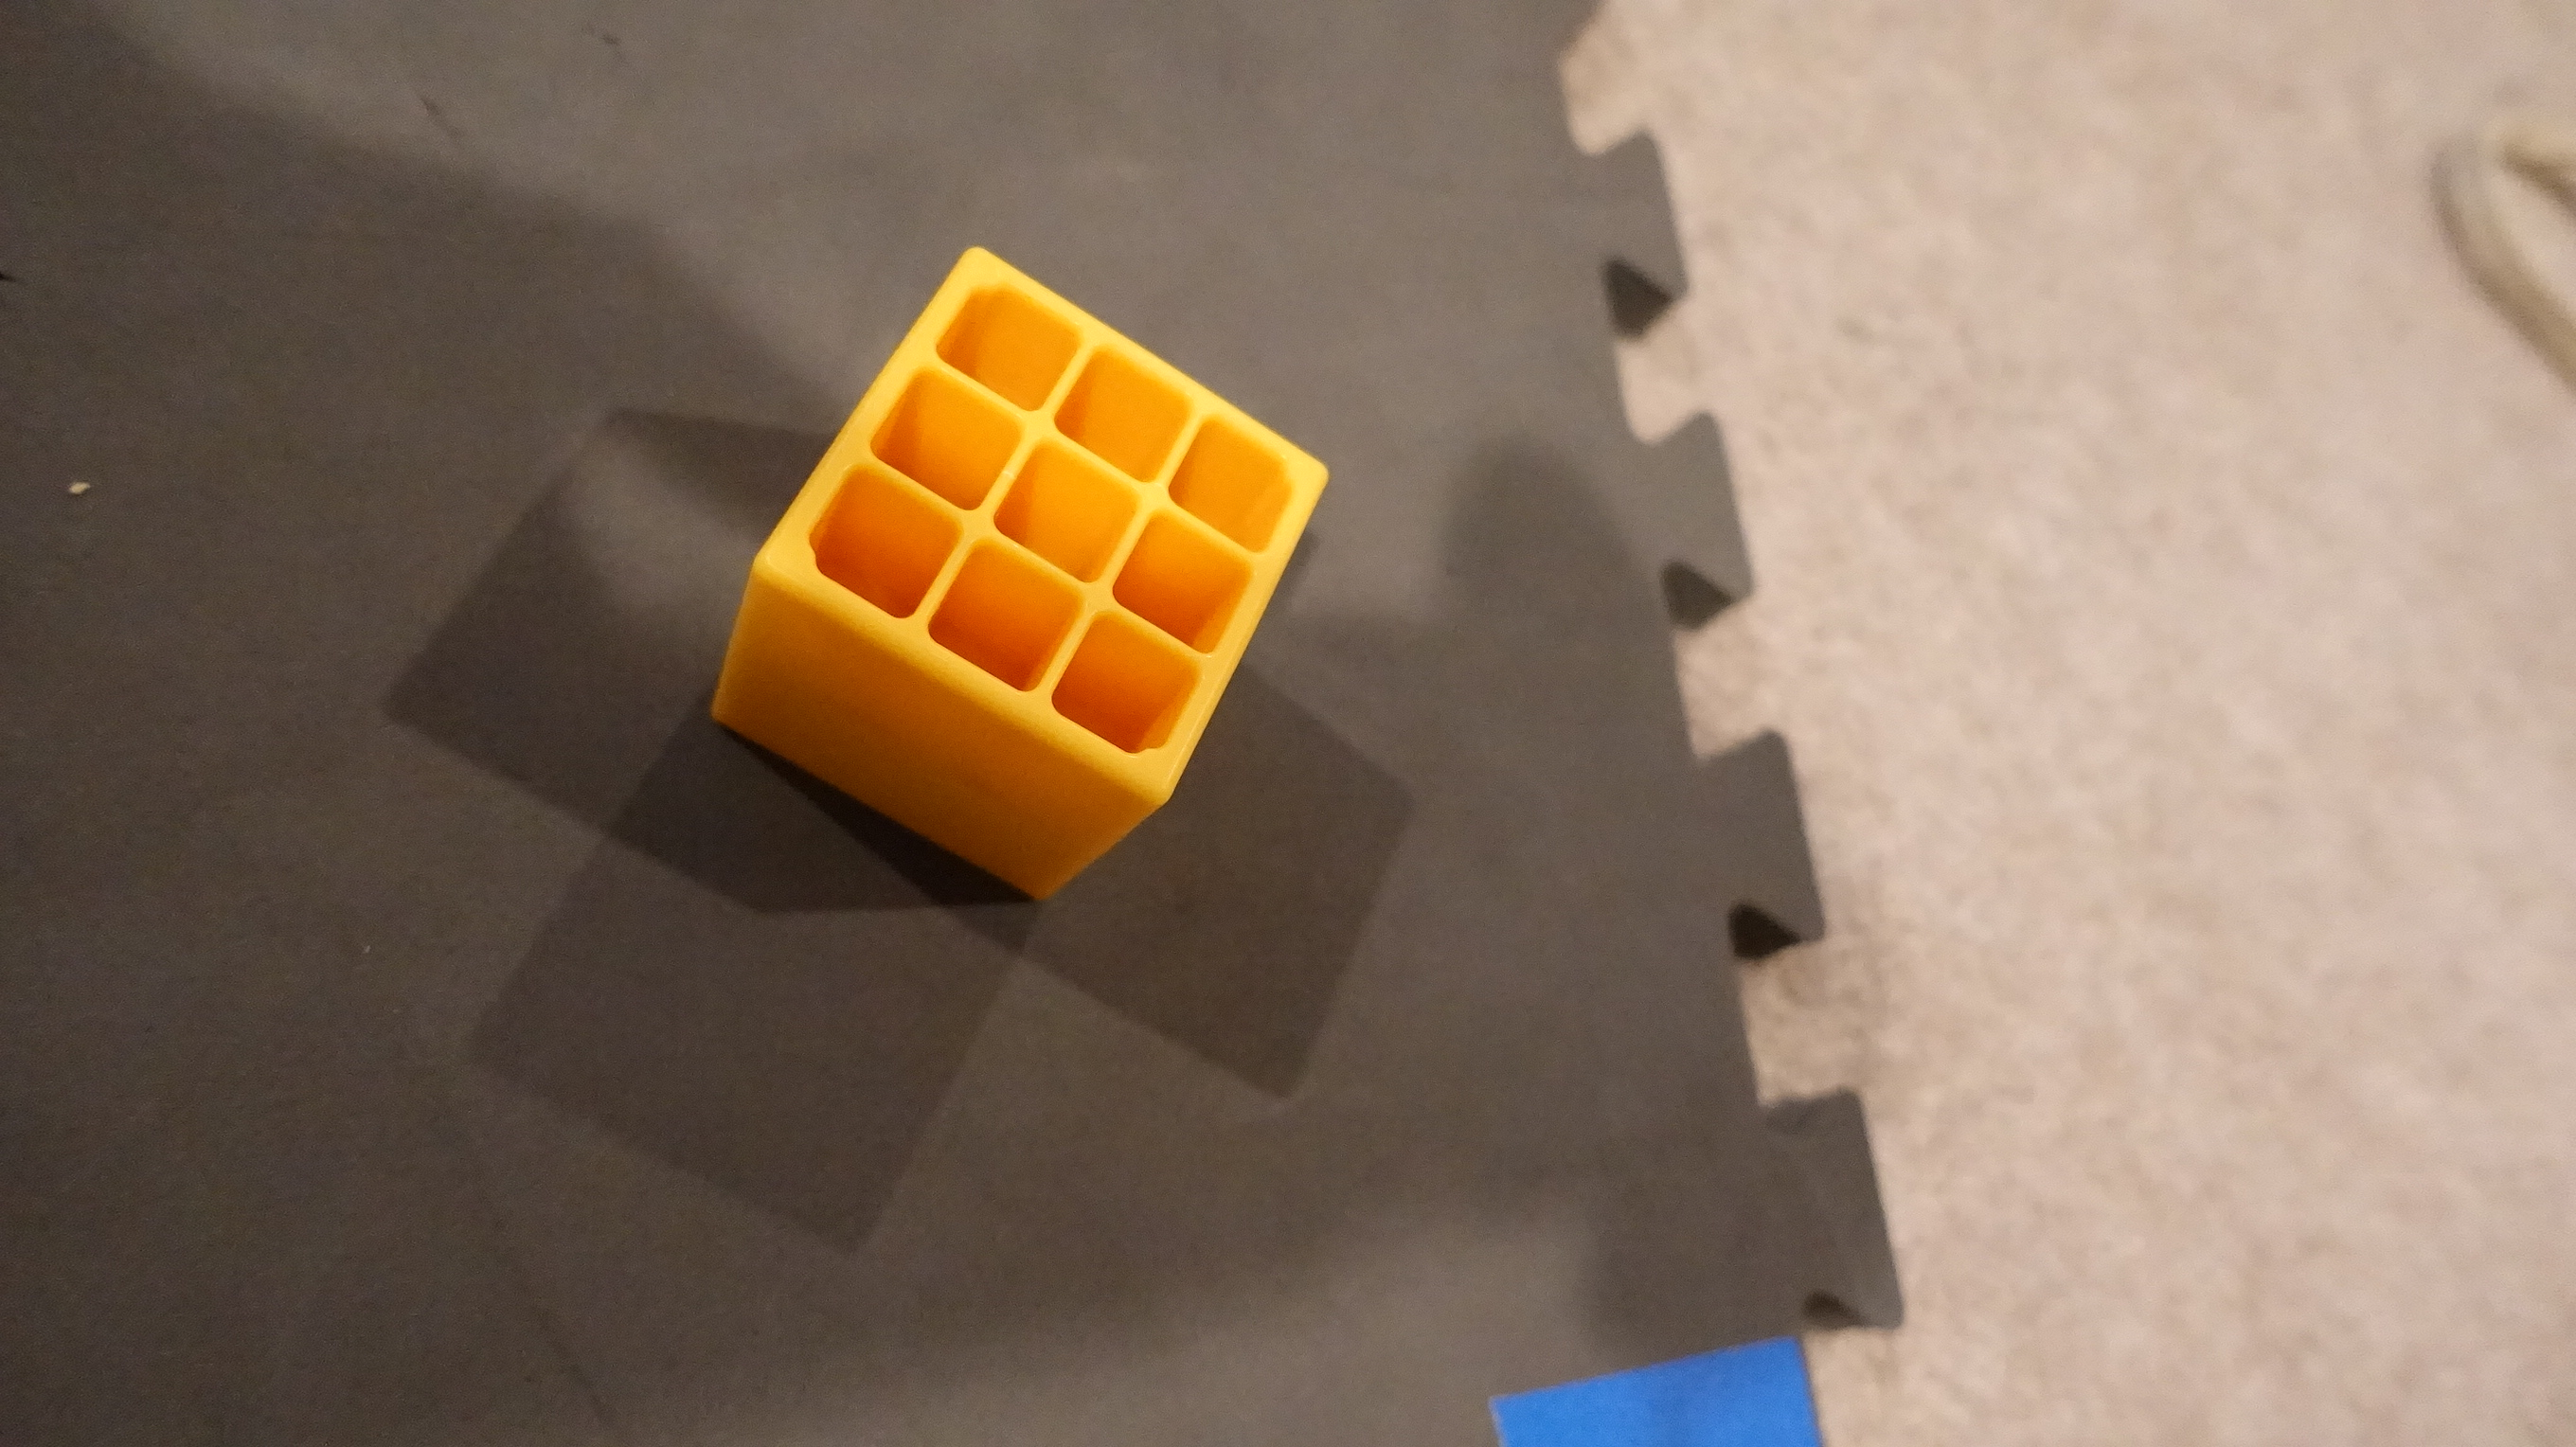gold: (708, 239, 1339, 904)
